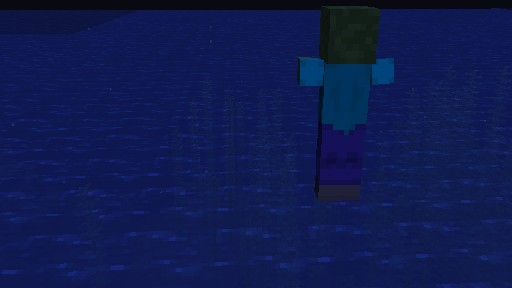zombie: (296, 5, 394, 201)
